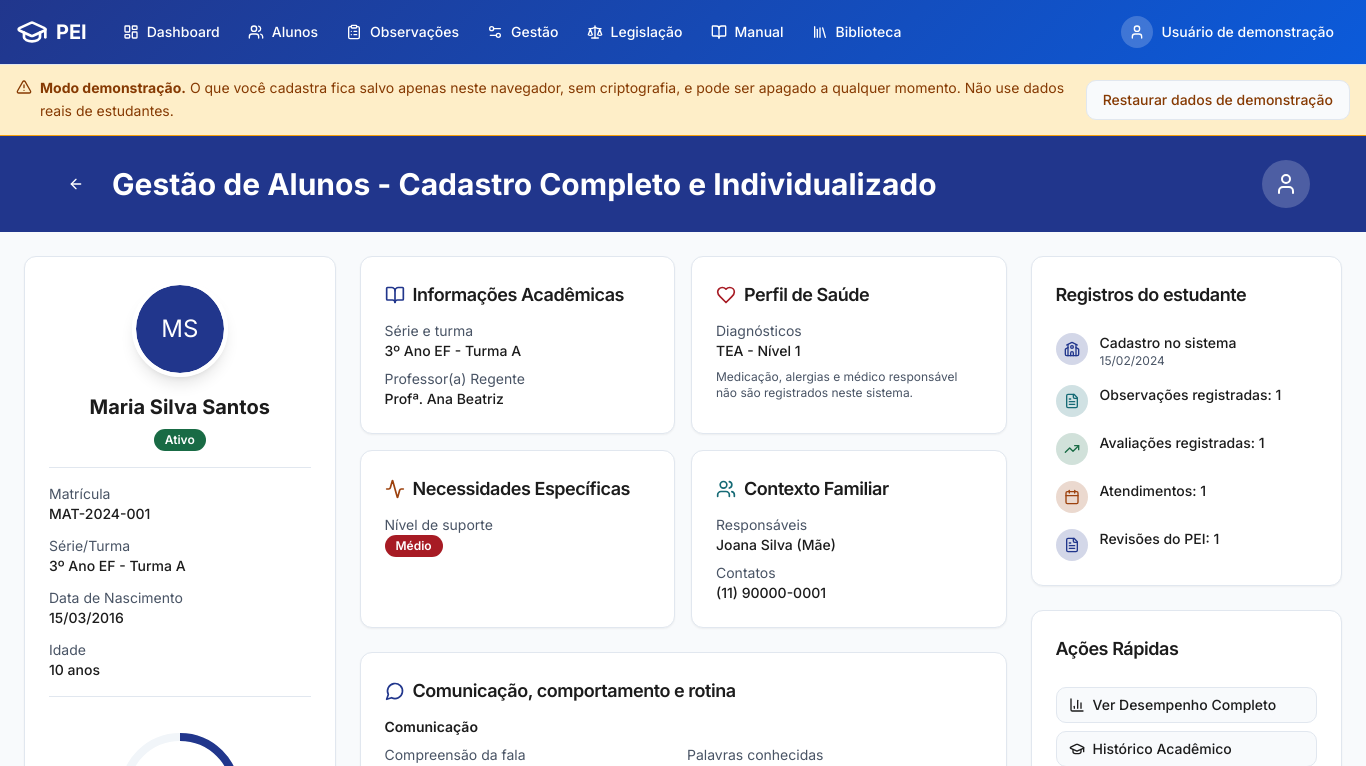
Test: Desempenho: os números vêm dos registros do estudante › as abas mostram as metas do plano e o que a avaliação registrou
Step 1. Click the button "Ver Desempenho Completo" → (1186, 704), box [1056, 686, 1317, 722]
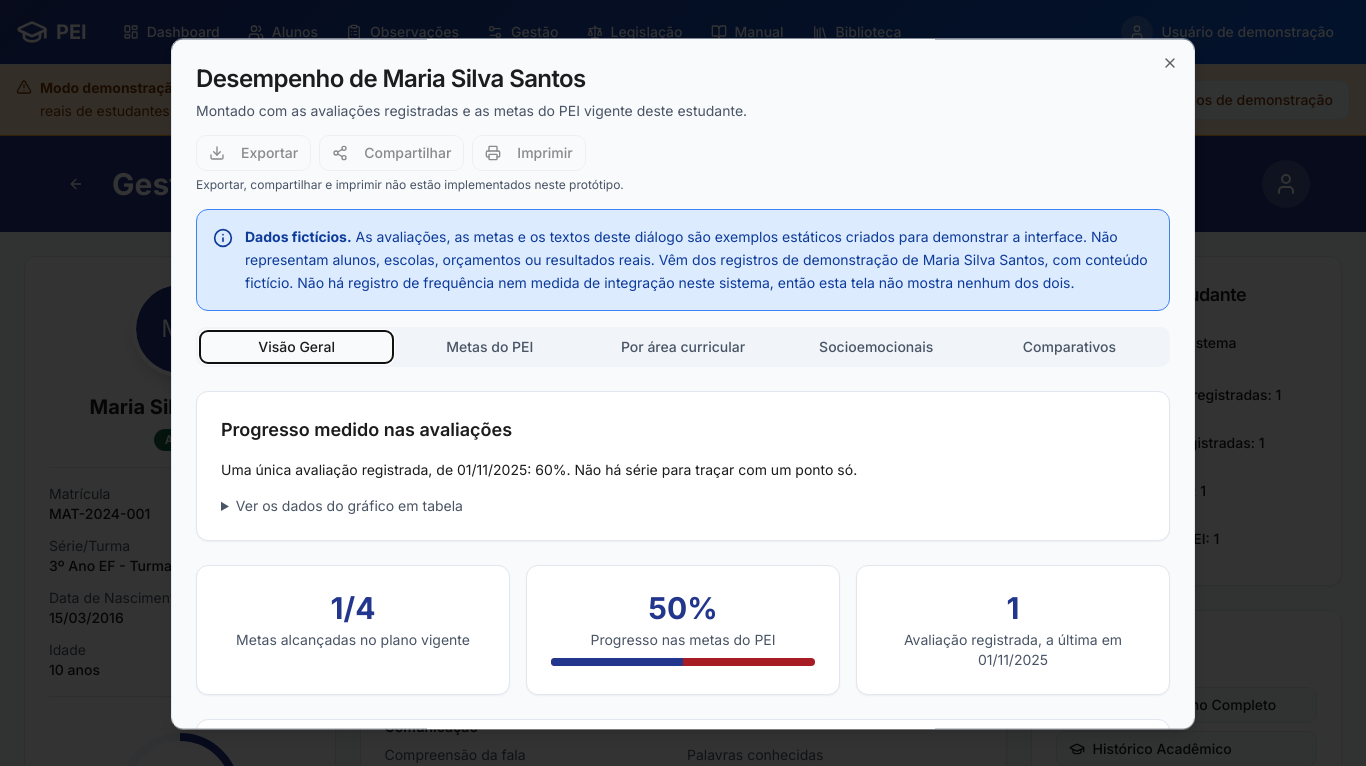
Step 2. Click the tab "Metas do PEI" → (490, 348), box [393, 332, 586, 364]
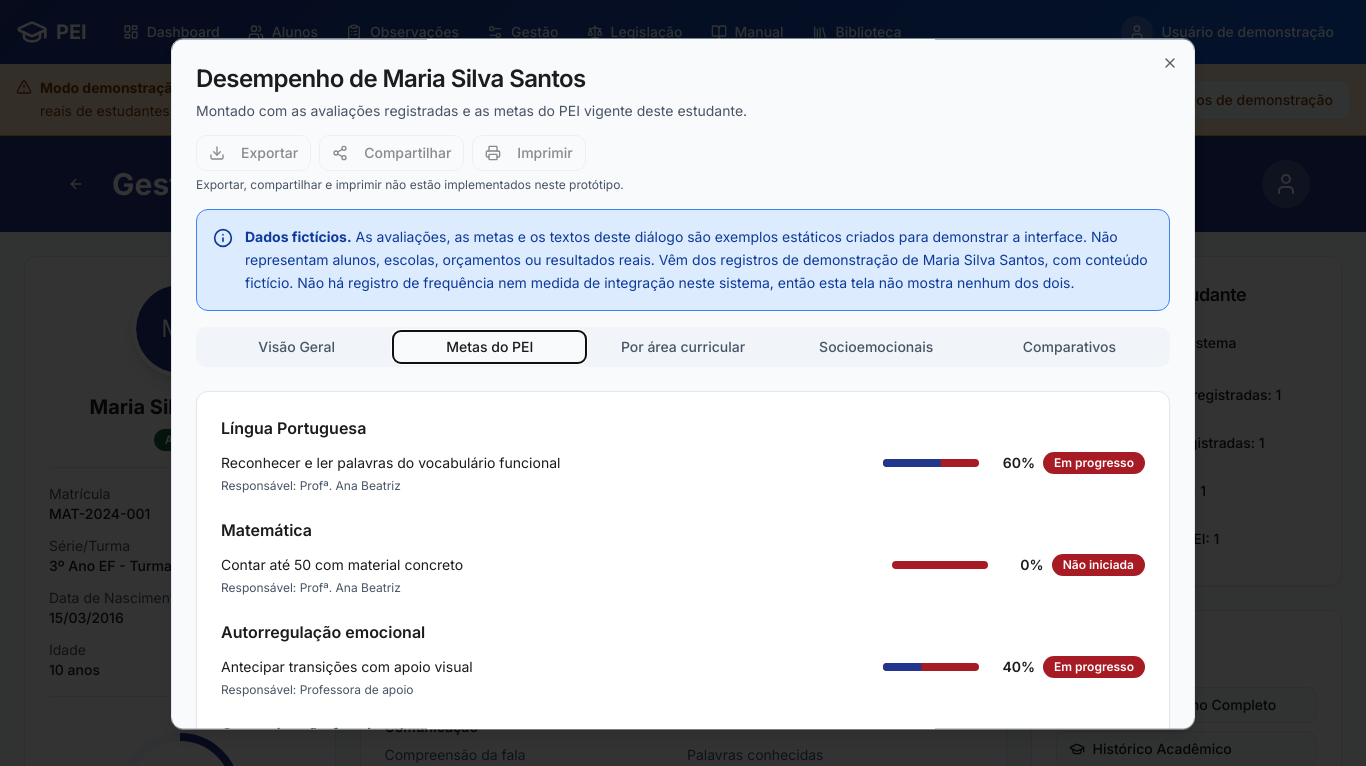
Now the text "Reconhecer e ler palavras do vocabulário funcional" is shown, box [221, 454, 560, 474]
Now the text "Contar até 50 com material concreto" is shown, box [221, 556, 463, 576]
Step 3. Click the tab "Por área curricular" → (683, 348), box [586, 332, 780, 364]
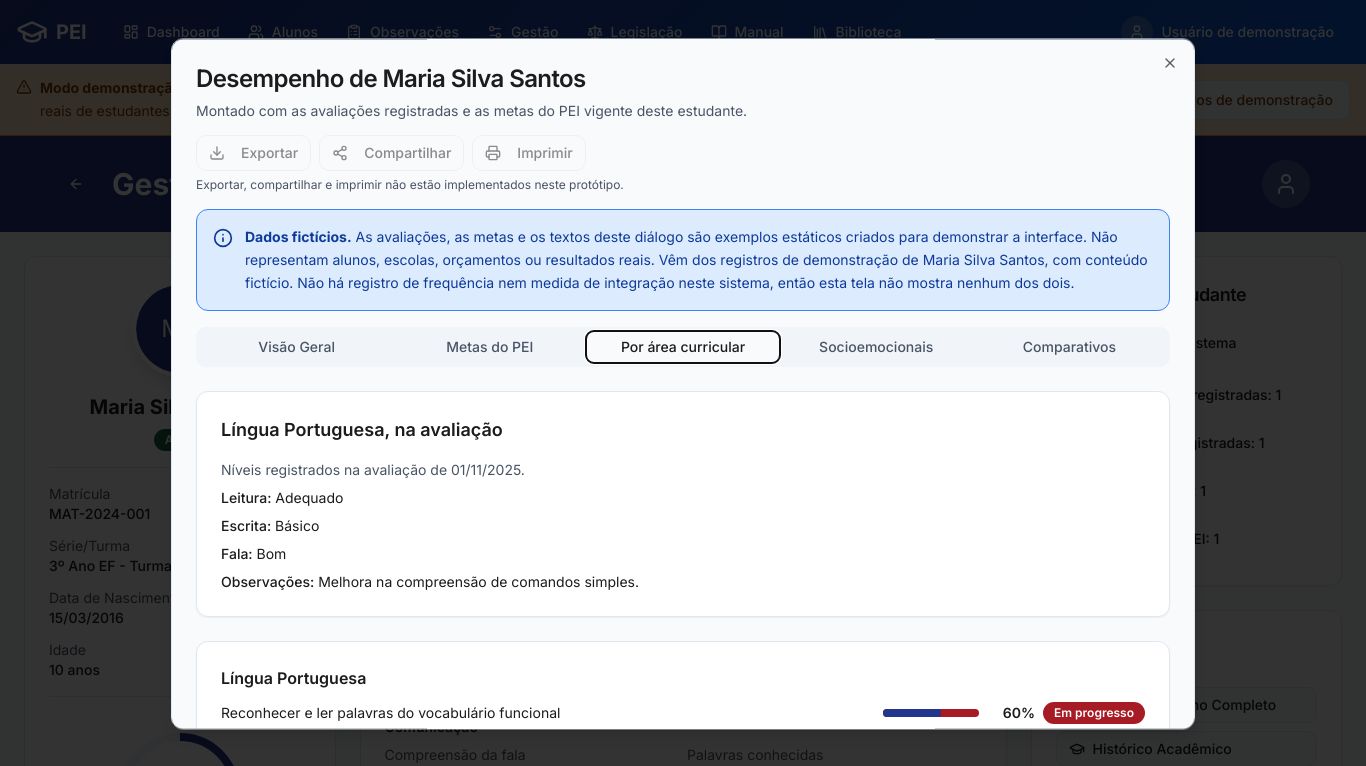
Now the text "Leitura:" is shown, box [221, 490, 271, 507]
Now the text "Níveis registrados na avaliação de 01/11/2025." is shown, box [221, 462, 525, 479]
Now the text "Antecipar transições com apoio visual" is gone
Step 4. Click the tab "Socioemocionais" → (876, 348), box [780, 332, 973, 364]
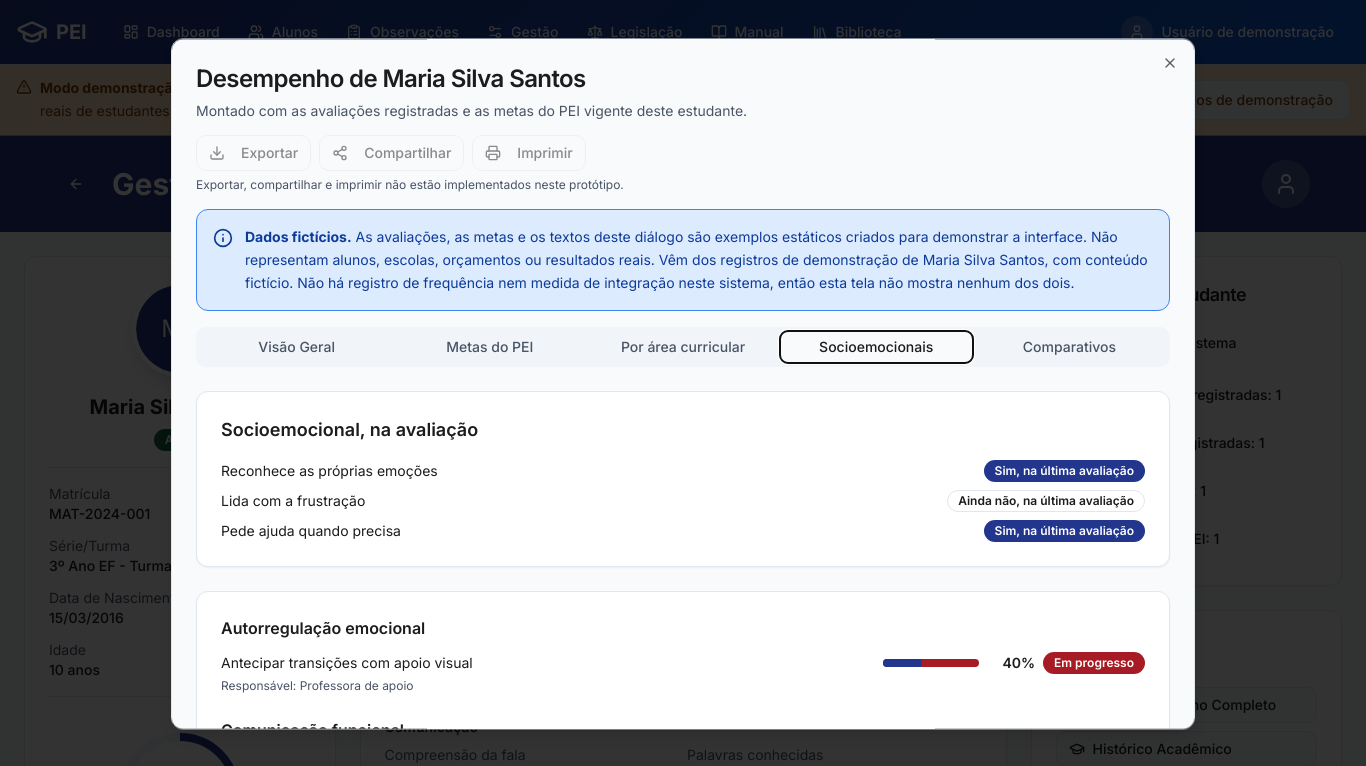
Expected: the text "Contar até 50 com material concreto" is not shown
Now the text "Pede ajuda quando precisa" is shown, box [221, 522, 401, 542]
Now the text "Antecipar transições com apoio visual" is shown, box [221, 654, 473, 674]
Step 5. Click the tab "Comparativos" → (1069, 348), box [973, 332, 1166, 364]
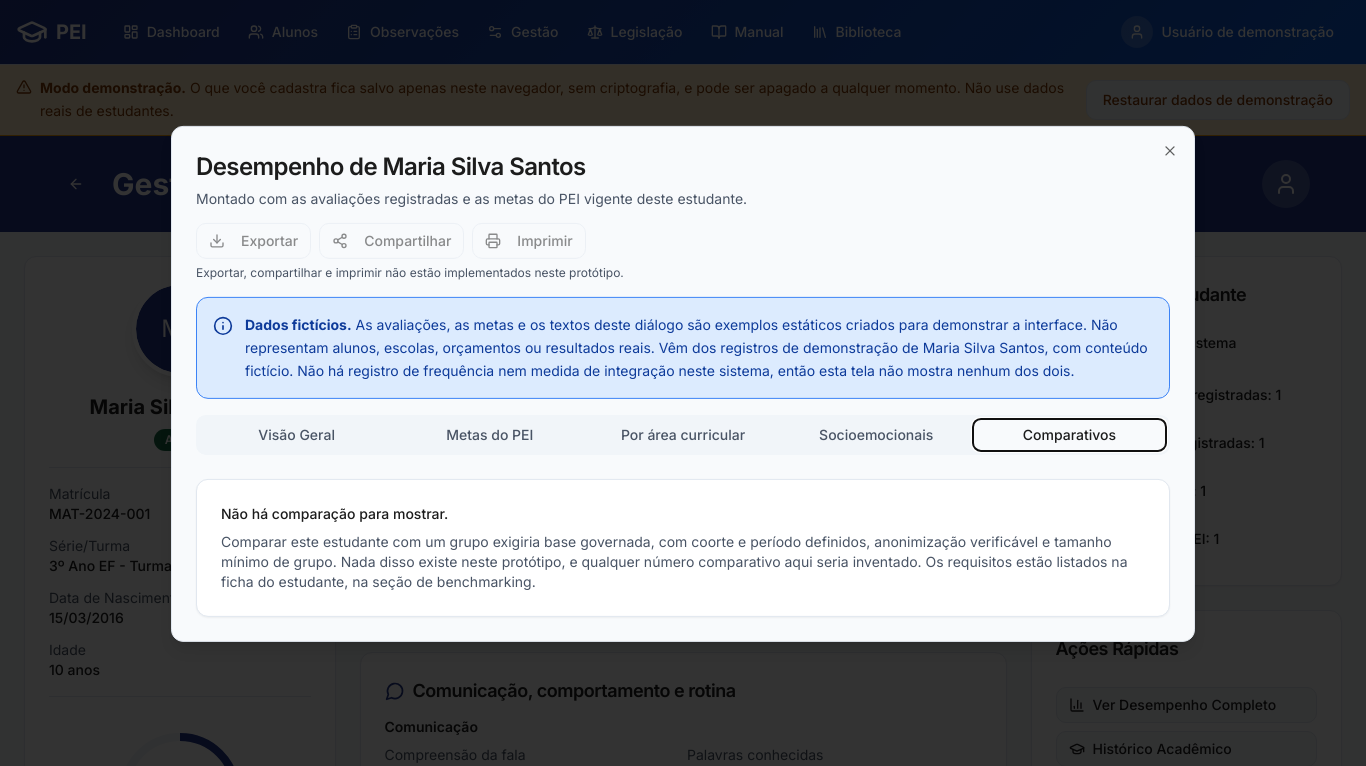
Now the text "Não há comparação para mostrar." is shown, box [221, 505, 448, 522]
